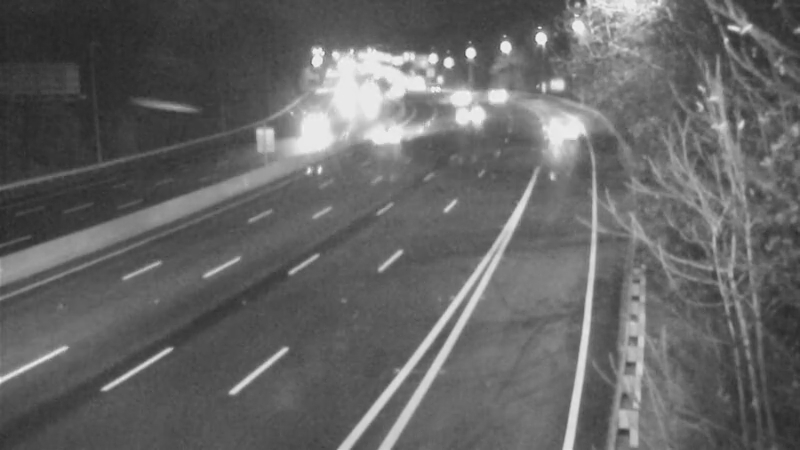vehicle: (431, 75, 481, 125), (472, 71, 522, 121), (439, 87, 489, 137), (534, 98, 584, 148), (369, 105, 419, 155), (288, 100, 338, 150), (345, 74, 395, 124)
